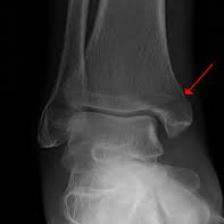intra-articular-fracture: (34, 0, 224, 224)
